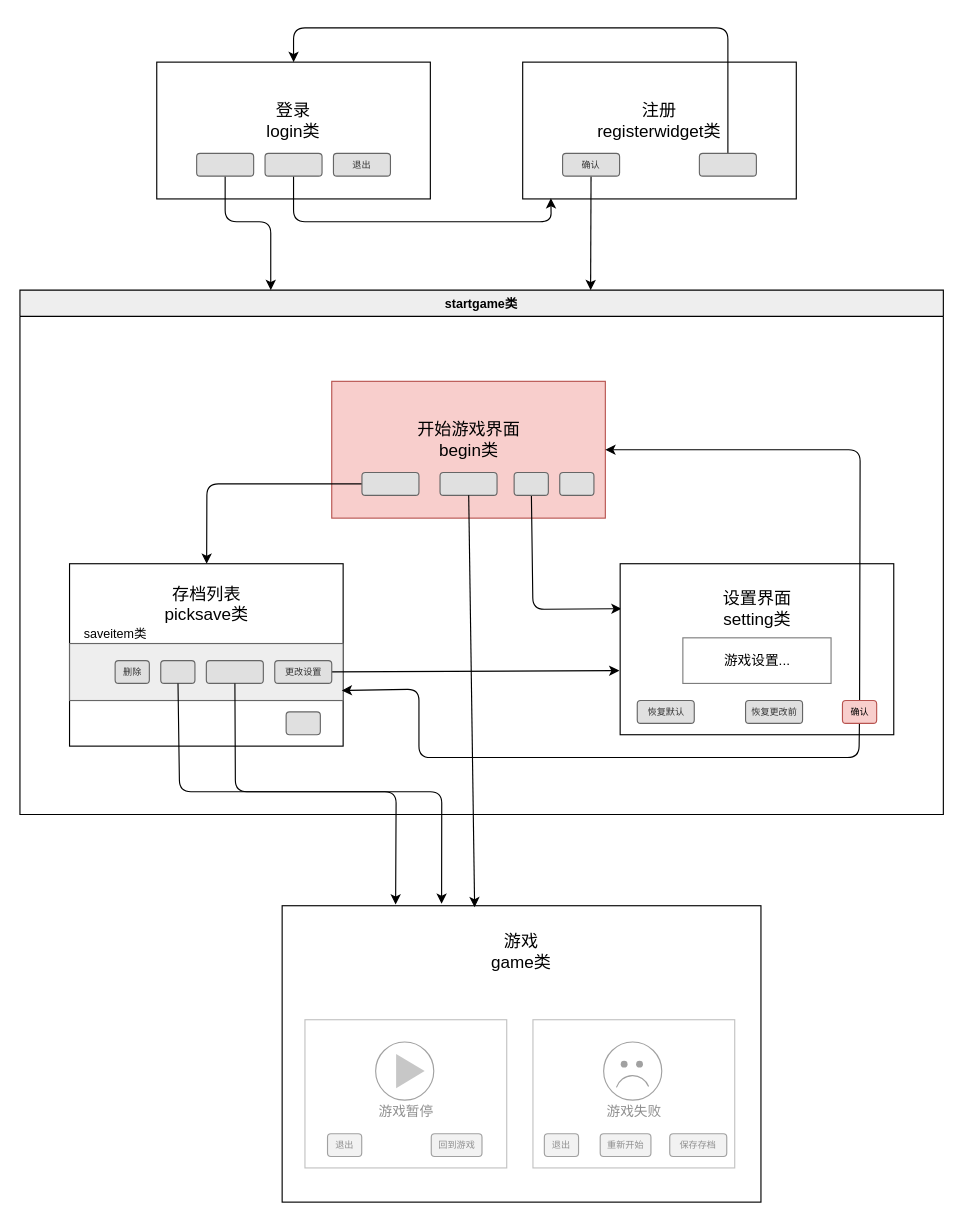
Image size: 963x1222. Some labels were removed from this diagram. Each missing label, with the centre of its shape:
"从存档开始" belongs at (390,483).
"回放" belongs at (177,671).
"开始新游戏" belongs at (468,483).
"我有账号" belongs at (727,164).
"没有账号?" belongs at (293,164).
"登出" belongs at (576,483).
"登录" belongs at (225,164).
"继续游戏" belongs at (234,671).
"设置" belongs at (530,483).
"返回" belongs at (302,723).
